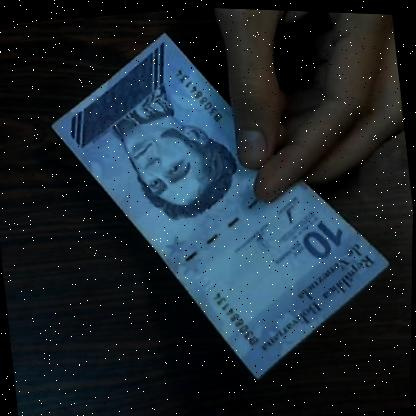ten-front-vef: (27, 1, 410, 406)
